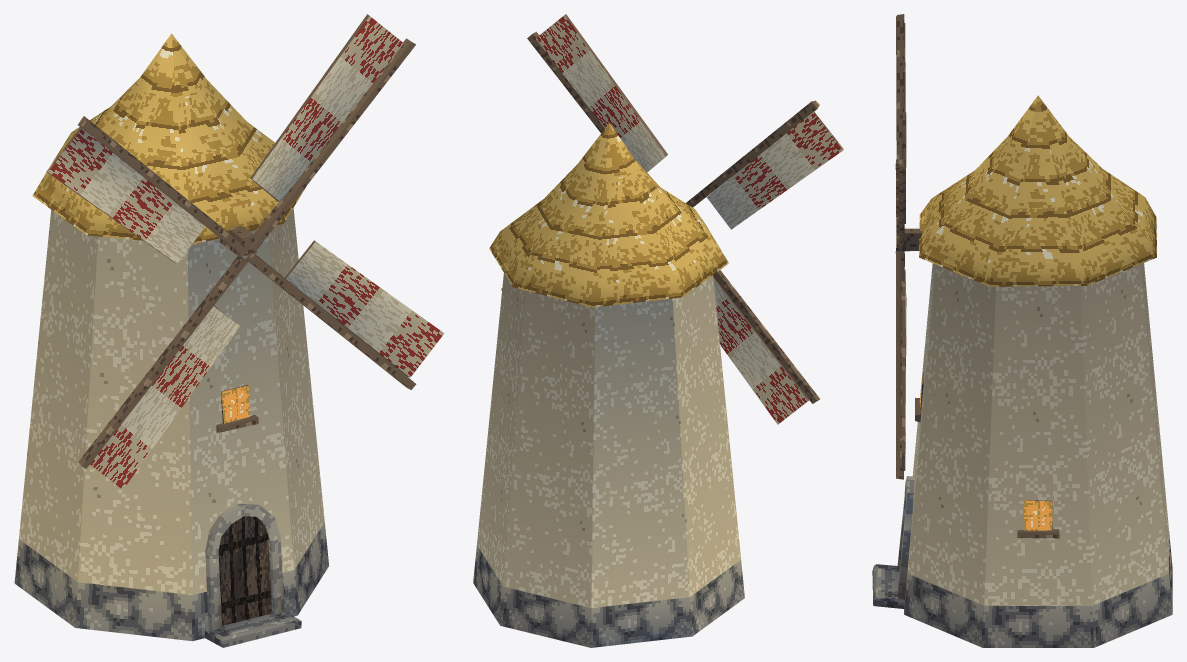
Rendered from vlg.mill__turned.glb.
3 renders of one model, left to right at view 1: azimuth 30°, elevation 25°; view 2: azimuth 150°, elevation 25°; view 3: azimuth 270°, elevation 25°, orthographic. The views are drawn at different scales.
Visible parts, largest first — view 1: kit_walls, kit_fittings, kit_roof, kit_frame; view 2: kit_walls, kit_roof, kit_fittings, kit_frame; view 3: kit_walls, kit_roof, kit_fittings, kit_frame.
Part boxes in pixels (<box>): kit_walls: <box>14,208,328,641</box>; kit_fittings: <box>46,14,444,647</box>; kit_roof: <box>32,33,305,244</box>; kit_frame: <box>78,38,416,468</box>; kit_walls: <box>473,273,744,647</box>; kit_roof: <box>489,123,728,307</box>; kit_fittings: <box>501,14,843,424</box>; kit_frame: <box>527,31,819,403</box>; kit_walls: <box>904,263,1172,647</box>; kit_roof: <box>919,95,1156,286</box>; kit_fittings: <box>872,23,1059,608</box>; kit_frame: <box>895,14,922,479</box>.
Size of the model in its own units: 7.5 by 10.56 by 5.37.
9 materials, 9 textured.
